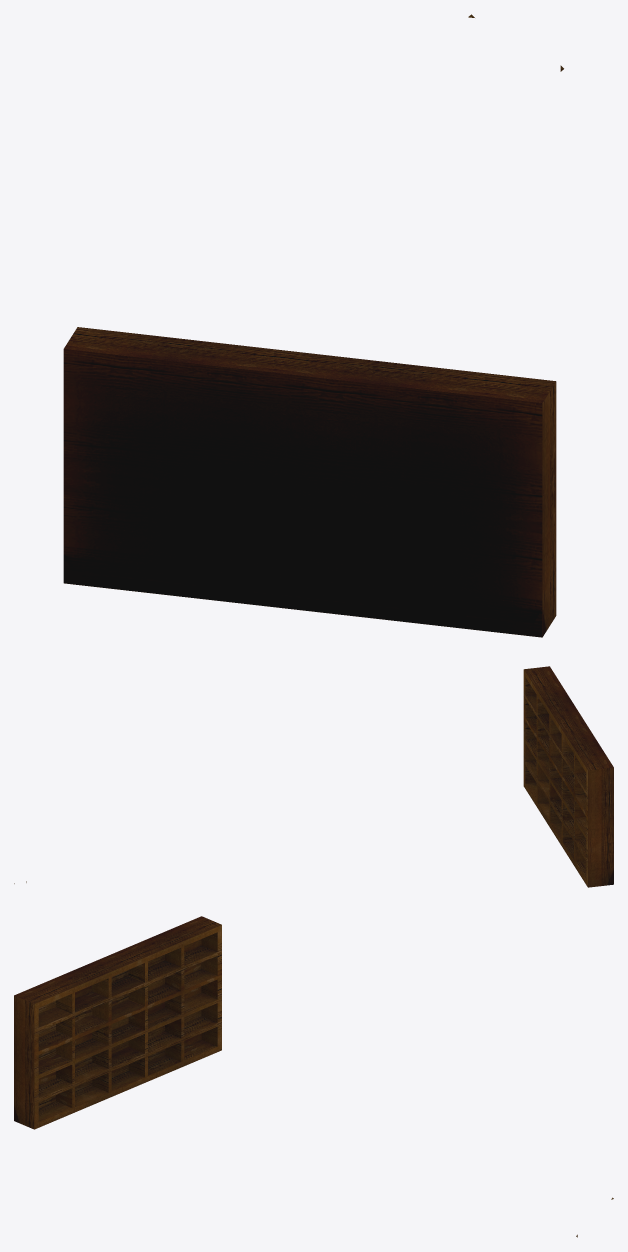
The model's file is Cabinets.glb.
3 renders of one model, top to bottom at view 1: azimuth 30°, elevation 25°; view 2: azimuth 150°, elevation 25°; view 3: azimuth 270°, elevation 25°, orthographic. The views are drawn at different scales.
Parts seen in each view (by area): view 1: CabinetNew; view 2: CabinetNew; view 3: CabinetNew.
Part boxes in pixels (box(x1,y1,x2,y2)): CabinetNew: box(63, 14, 563, 637); CabinetNew: box(14, 666, 613, 887); CabinetNew: box(14, 916, 613, 1237).
Bounding box in the file's own units: 4.56 × 1.2 × 5.2.
1 material, 1 textured.
